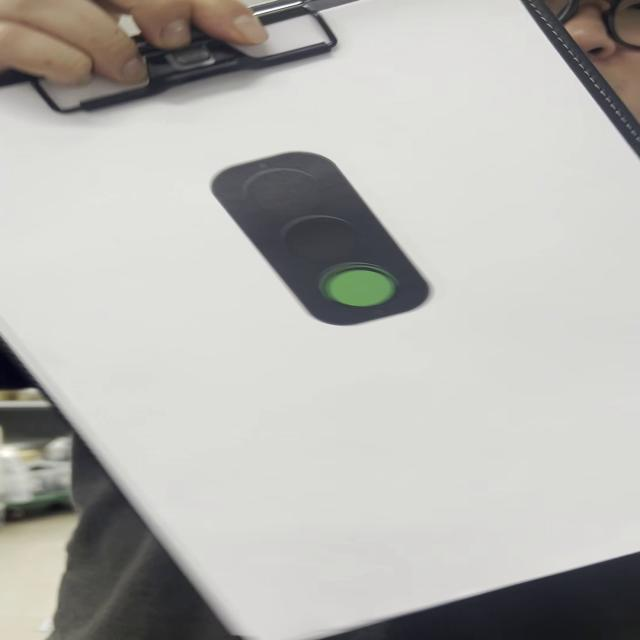green: (209, 155, 434, 324)
